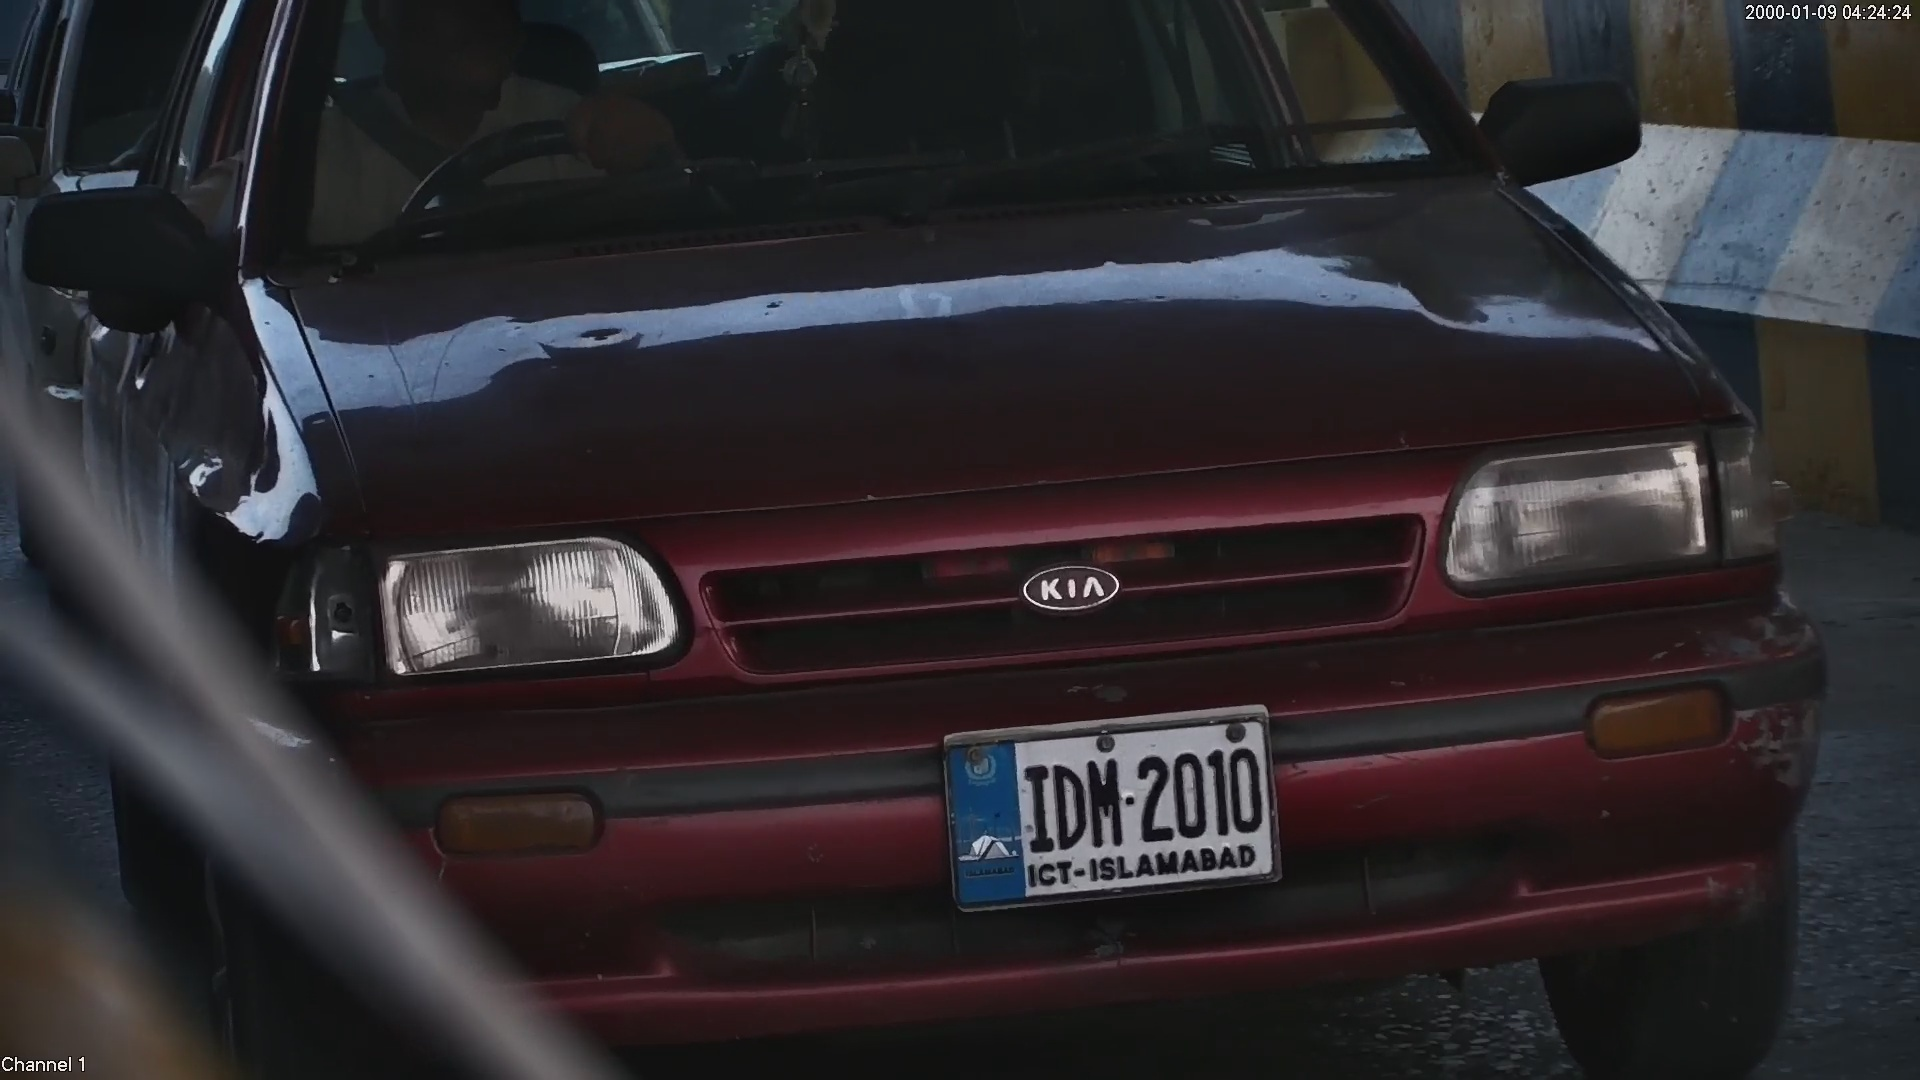Number_Plate: (917, 688, 1287, 901)
